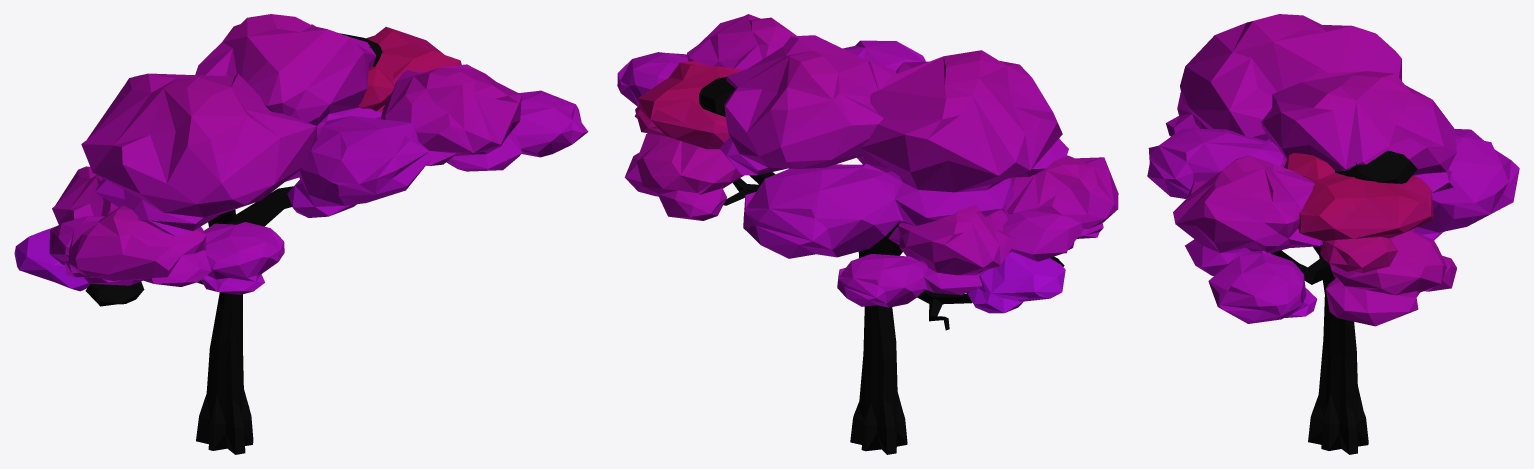
The model's file is SM_Env_Tree_02.glb.
3 renders of one model, left to right at view 1: azimuth 30°, elevation 25°; view 2: azimuth 150°, elevation 25°; view 3: azimuth 270°, elevation 25°, orthographic. The views are drawn at different scales.
Visible parts, largest first — view 1: SM_Env_Tree_02; view 2: SM_Env_Tree_02; view 3: SM_Env_Tree_02.
Boxes of the visible parts, x1,y1,x2,y2 form: SM_Env_Tree_02: [14, 14, 588, 454]; SM_Env_Tree_02: [617, 14, 1118, 454]; SM_Env_Tree_02: [1147, 14, 1519, 454].
Bounding box in the file's own units: 1497 × 1136 × 953.
